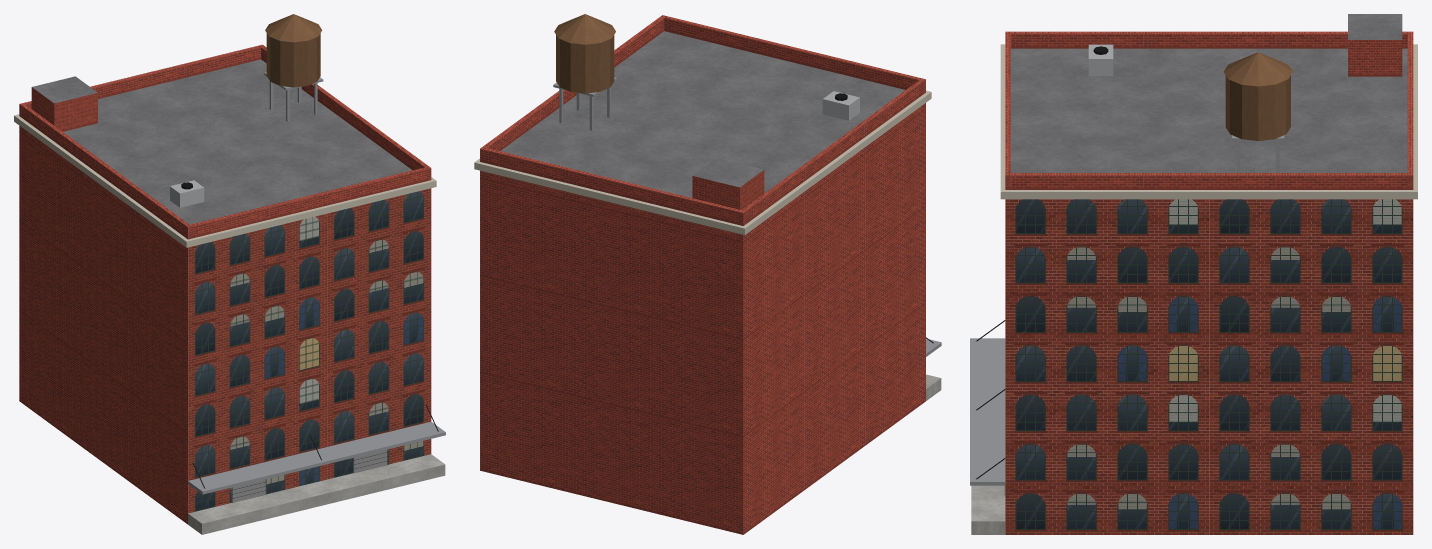
Rendered from 030_warehouse_arched.glb.
3 views of the same model, side by side, from view 1: azimuth 30°, elevation 25°; view 2: azimuth 150°, elevation 25°; view 3: azimuth 270°, elevation 25° (orthographic). The views are drawn at different scales.
Visible parts, largest first — view 1: 030_warehouse_arched; view 2: 030_warehouse_arched; view 3: 030_warehouse_arched.
Part boxes in pixels (x1=…): 030_warehouse_arched: x1=14, y1=14, x2=445, y2=534; 030_warehouse_arched: x1=474, y1=14, x2=941, y2=534; 030_warehouse_arched: x1=970, y1=14, x2=1417, y2=534.
Size of the model in its own units: 25.7 by 37.6 by 32.95.
Materials: 11 (6 with a texture image).
